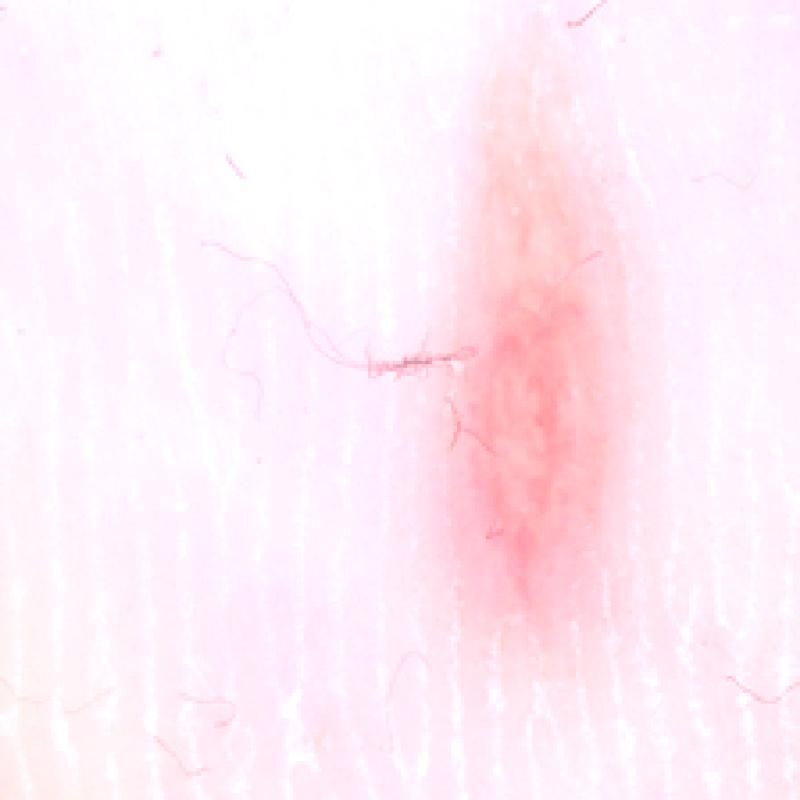benign: (391, 46, 678, 712)
